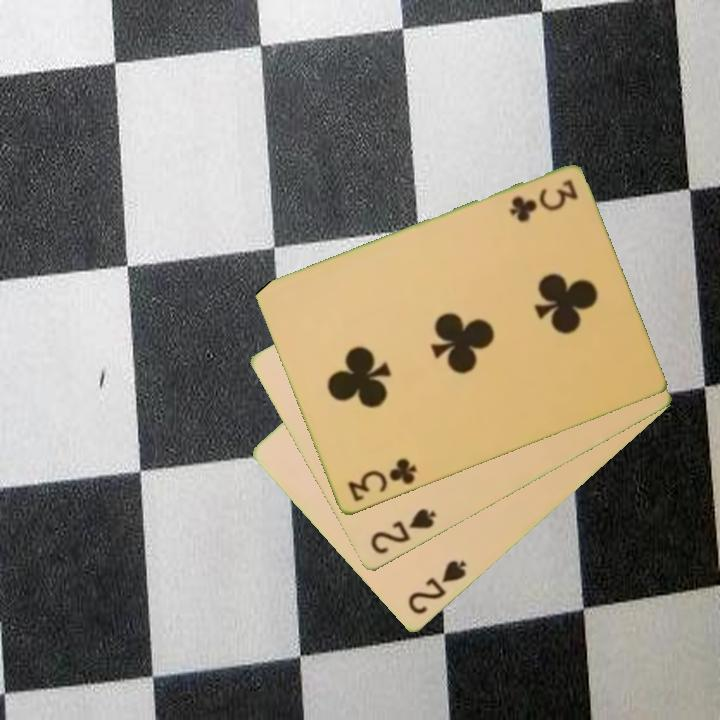2s: (404, 557, 470, 618), (366, 505, 439, 558)
3c: (344, 455, 420, 506), (505, 176, 581, 224)
